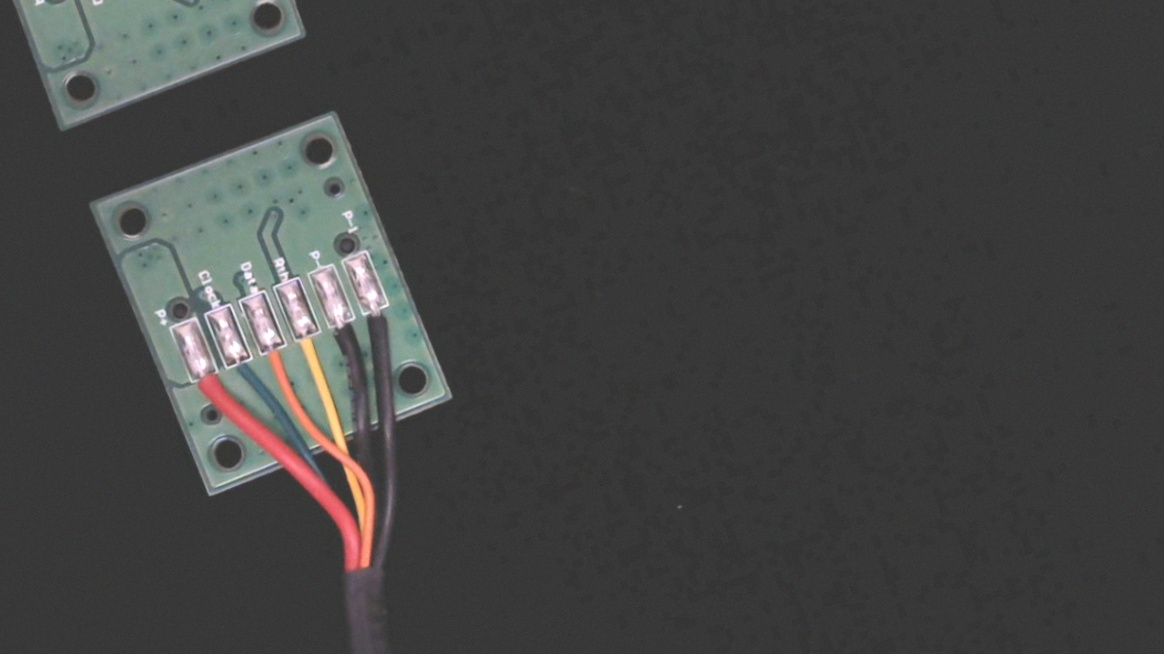Black: (323, 306, 369, 372)
Black1: (357, 293, 408, 362)
Green: (221, 344, 269, 405)
Orange: (254, 332, 301, 393)
Red: (186, 361, 234, 425)
Yellow: (287, 316, 339, 384)
